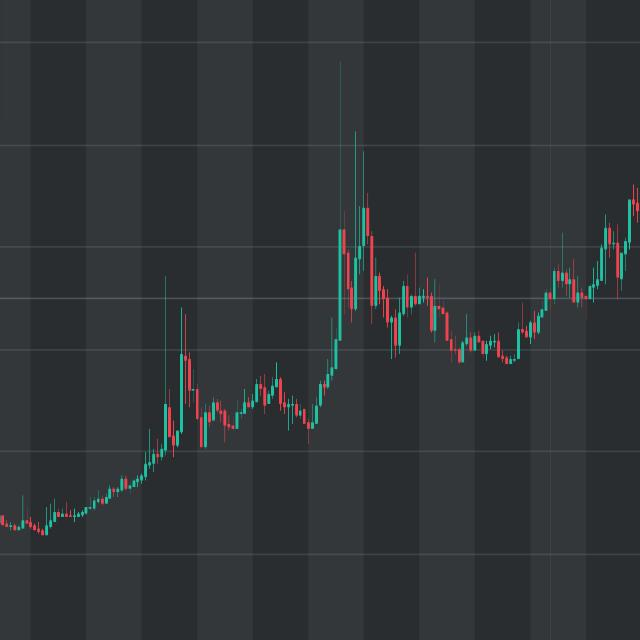Rounding-Bottom: (431, 252, 559, 376)
